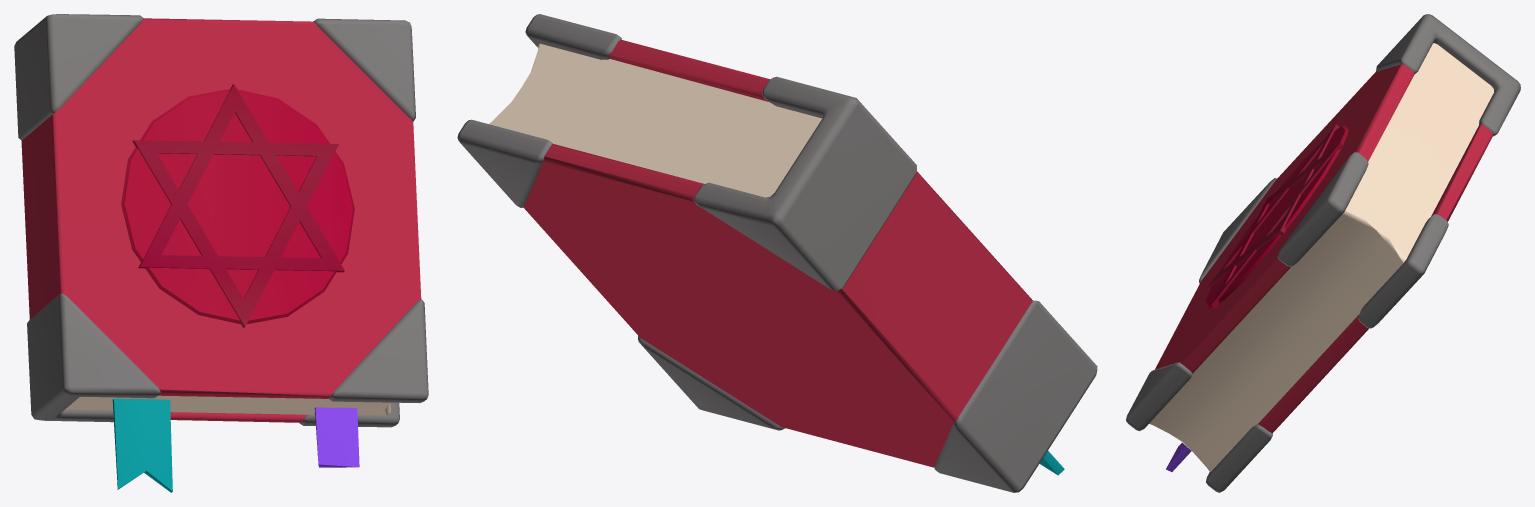
The picture shows the model from 3 angles, left to right: view 1: azimuth 30°, elevation 25°; view 2: azimuth 150°, elevation 25°; view 3: azimuth 270°, elevation 25°; orthographic projection. The views are drawn at different scales.
Visible parts, largest first — view 1: model_1.061; view 2: model_1.061; view 3: model_1.061.
Boxes of the visible parts, box(x1,y1,x2,y2) form: model_1.061: box(14, 14, 428, 492); model_1.061: box(457, 14, 1097, 492); model_1.061: box(1126, 14, 1520, 492).
Size of the model in its own units: 4.87 by 4.43 by 4.19.
